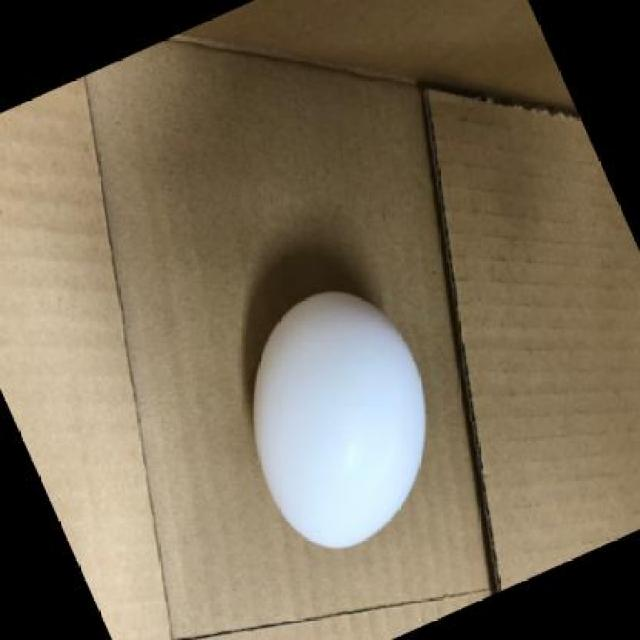egg: (246, 283, 431, 555)
